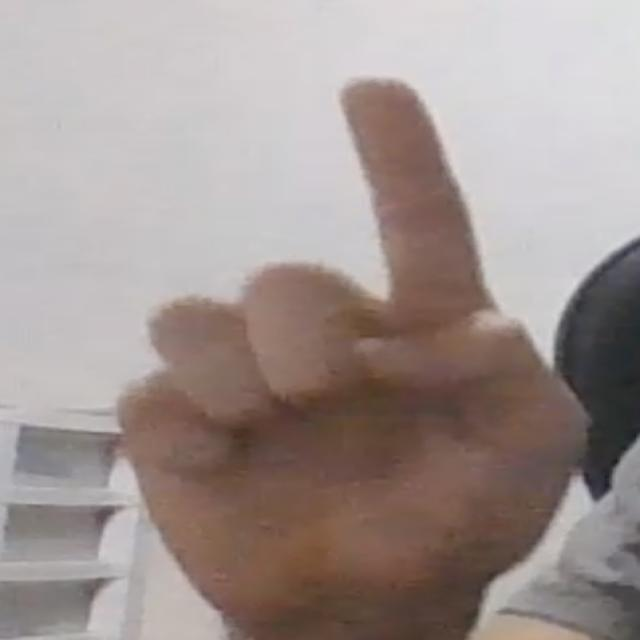Z: (115, 71, 601, 626)
